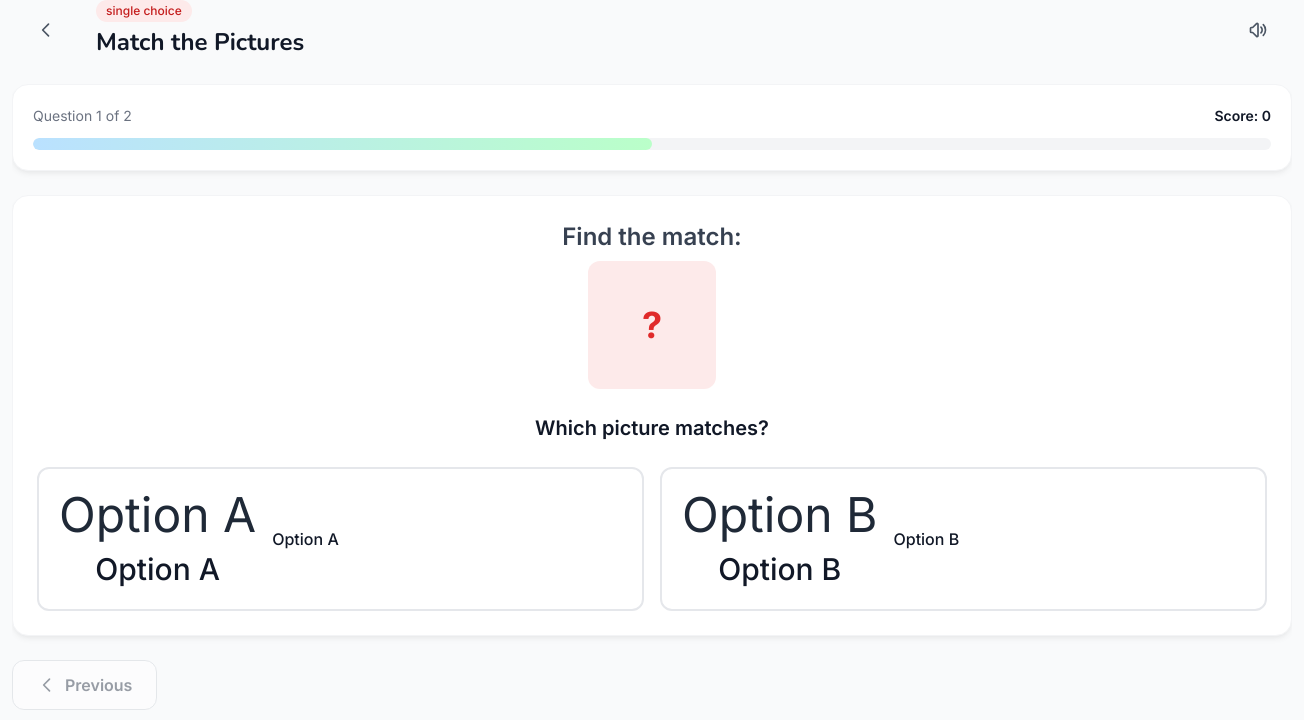
Test case: ActivityPage — Recommendation Integration › Recommendation request failure › preserves completion results when recommendation API fails
The image size is (1304, 720).
Click the button "Option A Option A Option A": (340, 539) [37, 467, 644, 611]
(page scrolled)
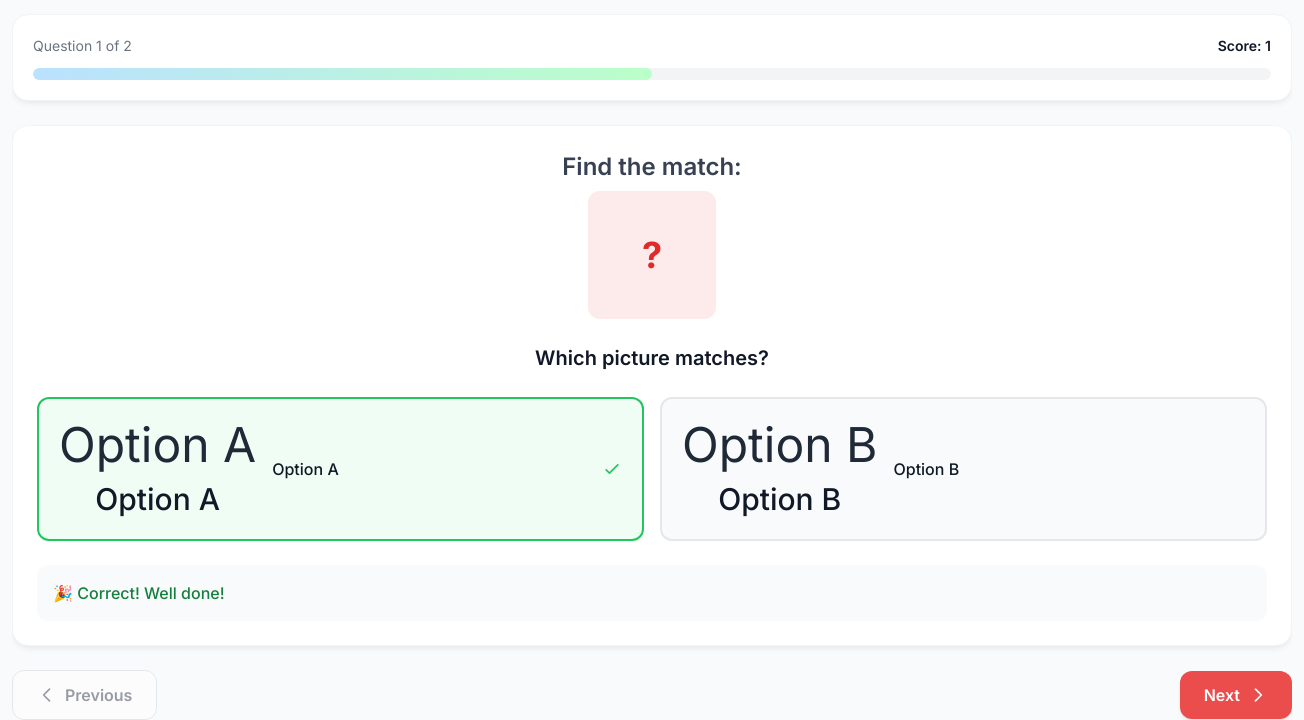
Check: the text "🎉 Correct! Well done!" is shown, box [53, 583, 224, 603]
Click the button "Next": (1236, 695) [1180, 671, 1292, 719]
(page scrolled)
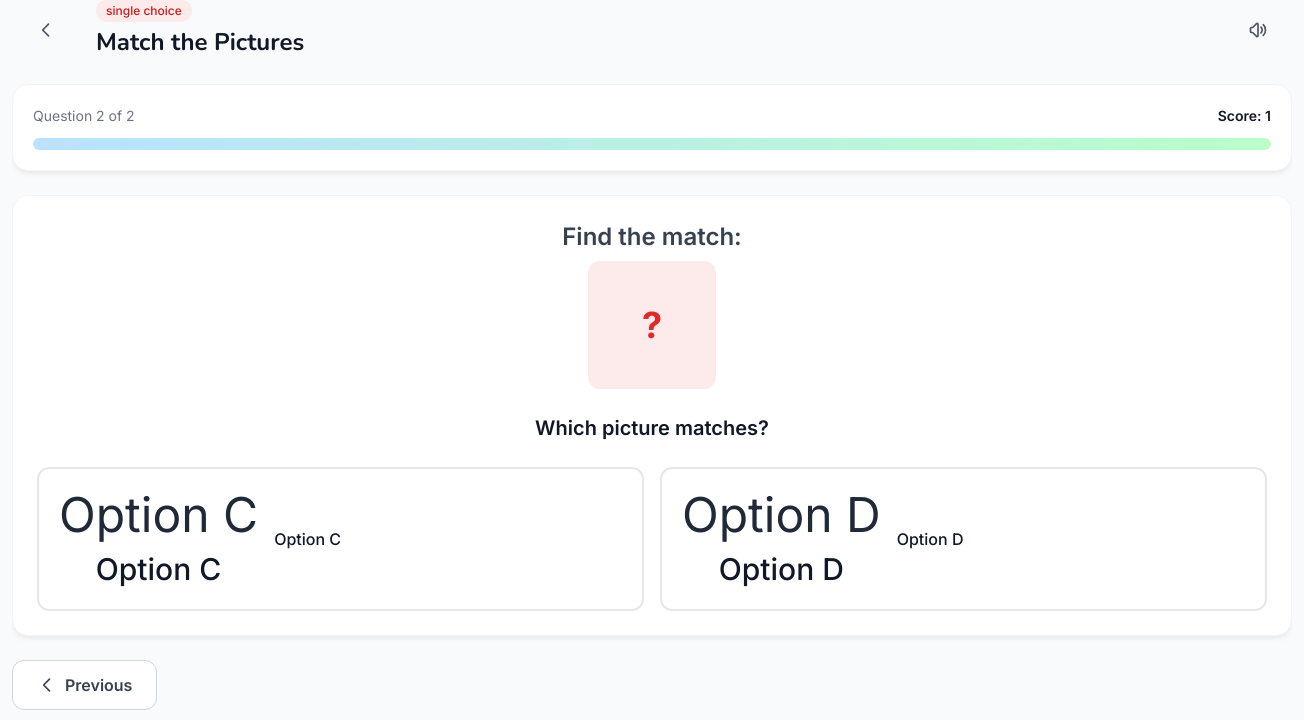
Click the button "Option C Option C Option C": (340, 539) [37, 467, 644, 611]
(page scrolled)
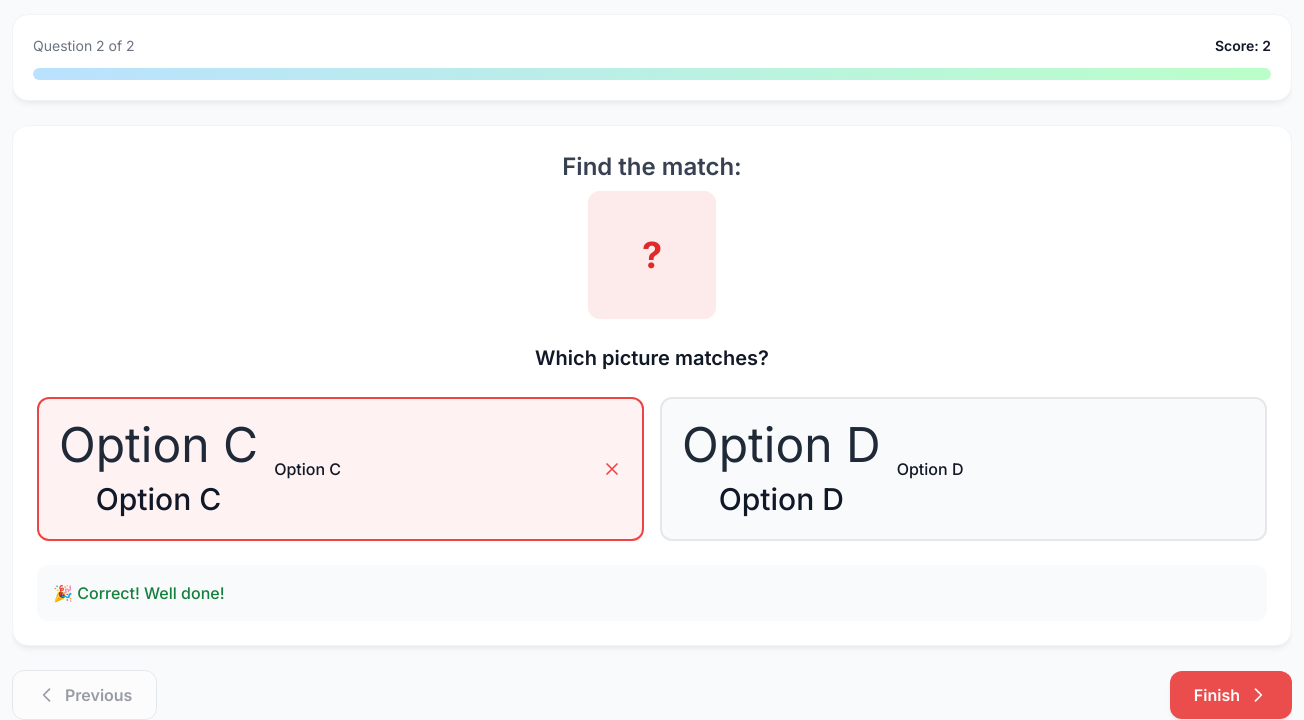
Check: the text "🎉 Correct! Well done!" is shown, box [53, 583, 224, 603]
Check: the button "Finish" is shown
Click the button "Finish": (1231, 695) [1170, 671, 1292, 719]
(page scrolled)
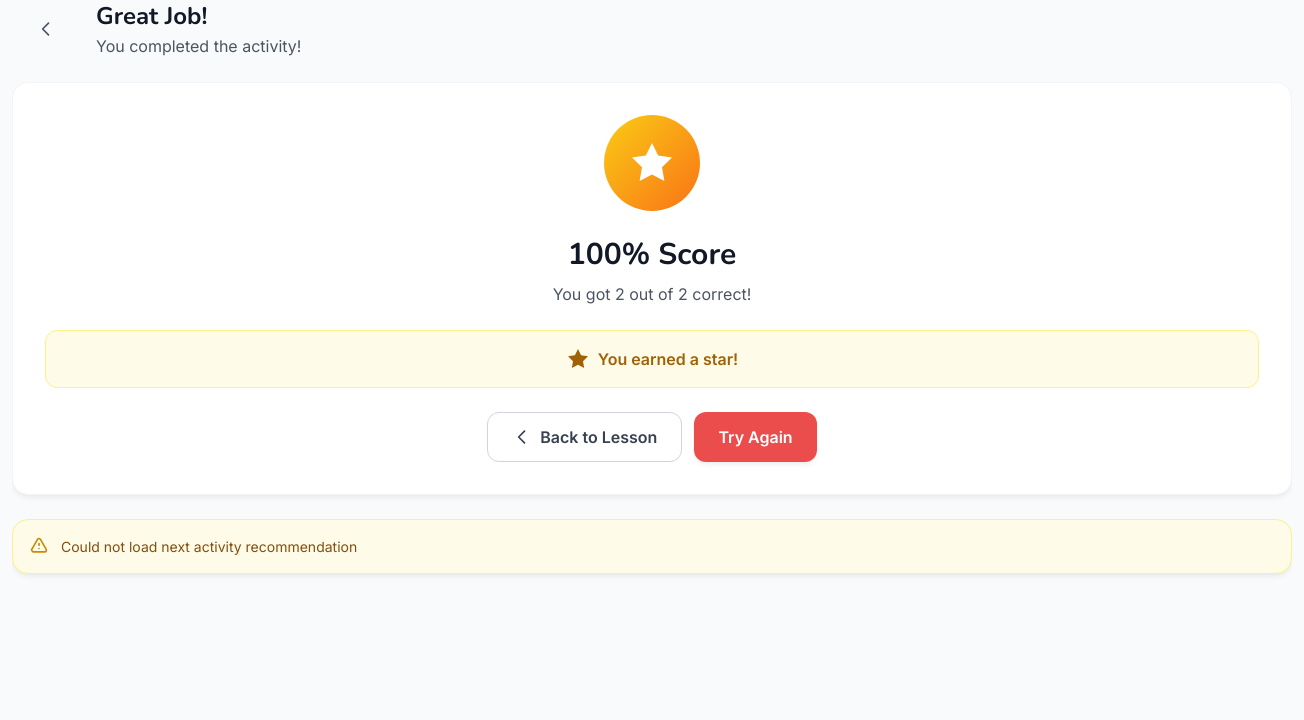
Check: the text "Could not load next activity recommendation" is shown, box [61, 536, 357, 557]
Check: the heading "Great Job!" is shown, box [96, 0, 207, 32]
Check: the heading "100% Score" is shown, box [568, 234, 736, 275]
